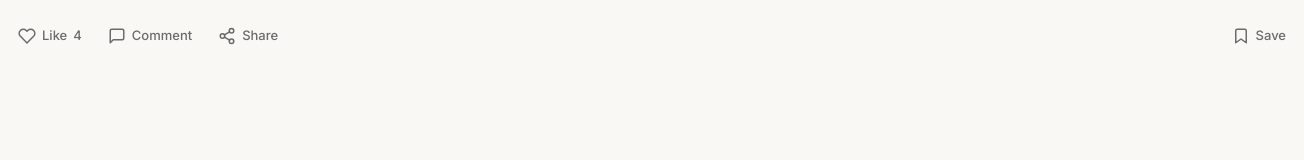
Test: FeedEngagementActions › rolls a failed like back and exposes the error
Click the button with aria-label "Like this item": (50, 36) [12,16,88,56]
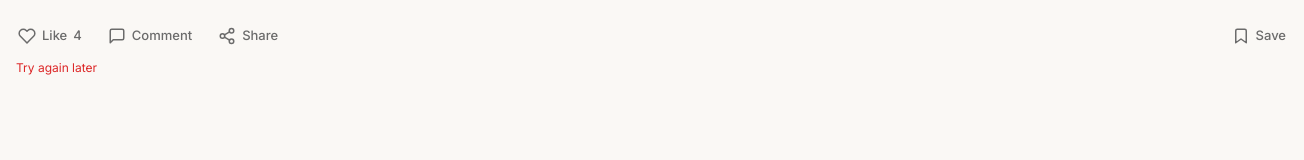
Check: the text "4" is shown, box [73,27,82,45]
Check: the text "Try again later" is shown, box [16,60,97,75]
